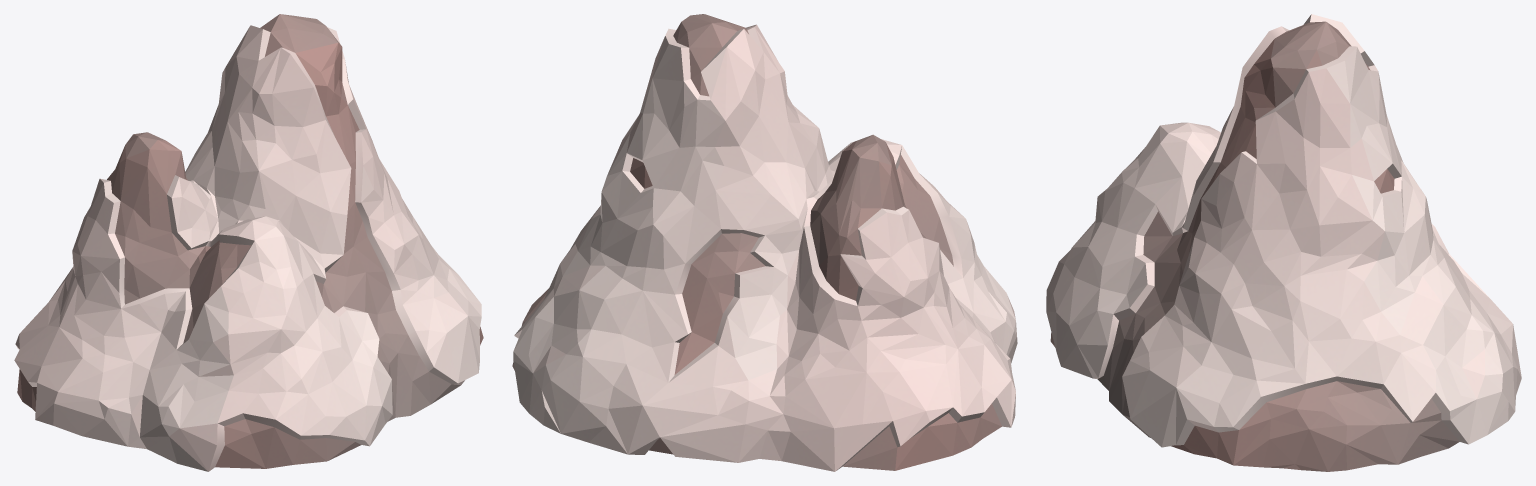
Rendered from Mountain_2A.fbx.
The picture shows the model from 3 angles, left to right: view 1: azimuth 30°, elevation 25°; view 2: azimuth 150°, elevation 25°; view 3: azimuth 270°, elevation 25°; orthographic projection. The views are drawn at different scales.
Visible parts, largest first — view 1: Group64596; view 2: Group64596; view 3: Group64596.
Boxes of the visible parts, left/top/right/bottom form: Group64596: left=14, top=14, right=483, bottom=471; Group64596: left=512, top=14, right=1017, bottom=471; Group64596: left=1046, top=14, right=1521, bottom=471.
Size of the model in its own units: 62.08 by 46.39 by 54.74.
Materials: 1 (1 with a texture image).
